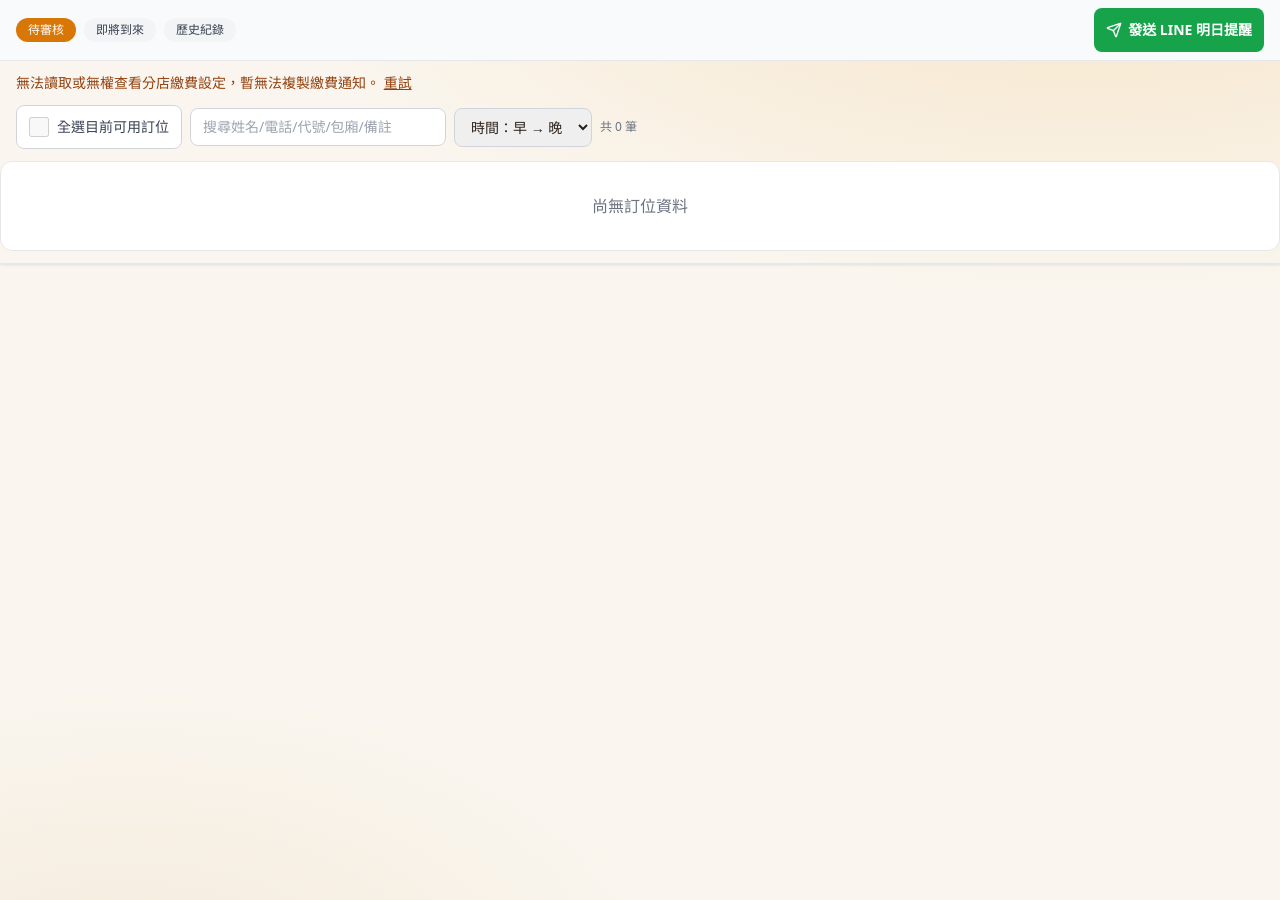
ReservationList history restore (一鍵還原) › filters to bookings auto-cancelled for an unpaid deposit
The width and height of the screenshot is (1280, 900).
Click the button "歷史紀錄" at coordinates (200, 30), box left=164, top=18, right=236, bottom=42
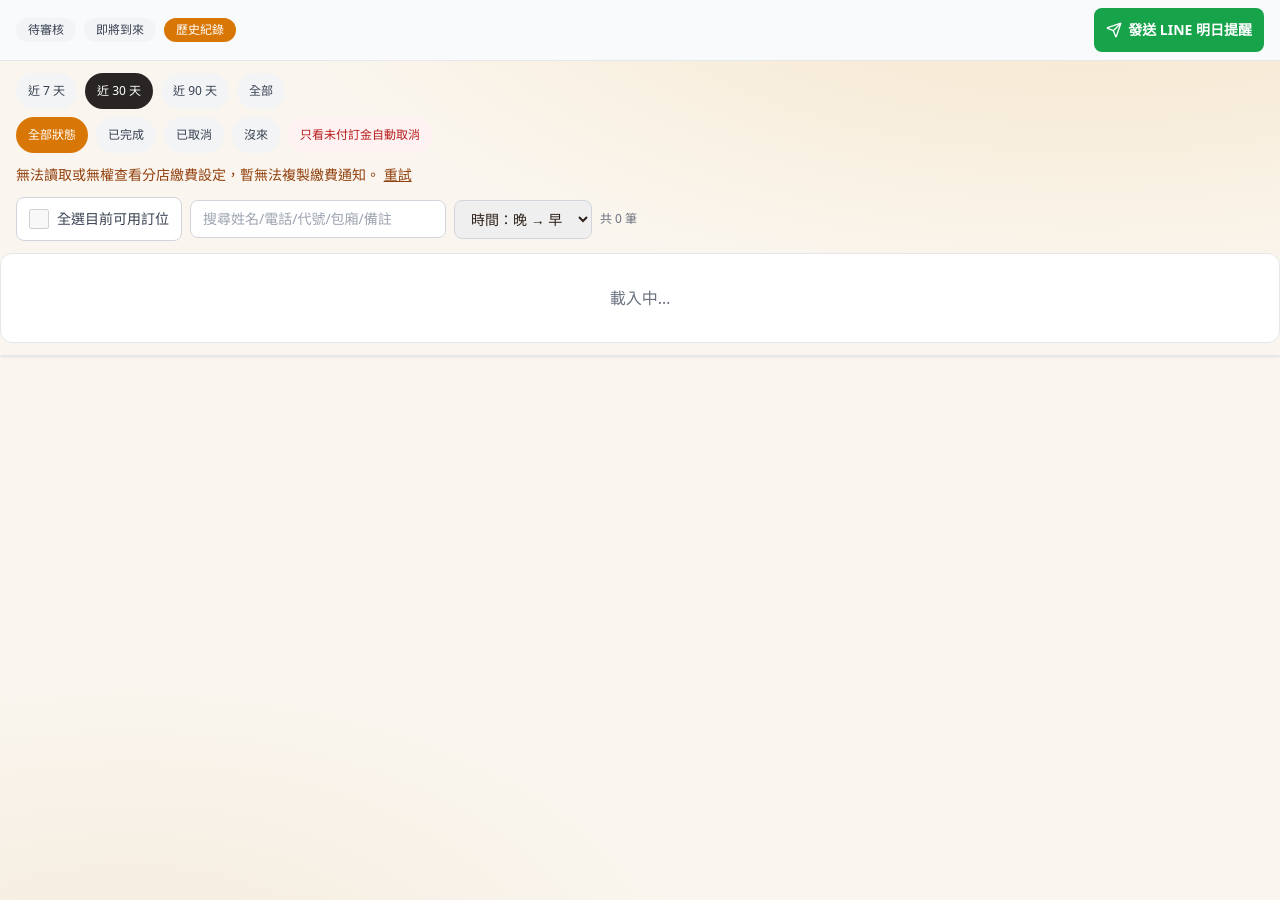
Click the button "只看未付訂金自動取消" at coordinates (360, 135), box left=288, top=117, right=432, bottom=153
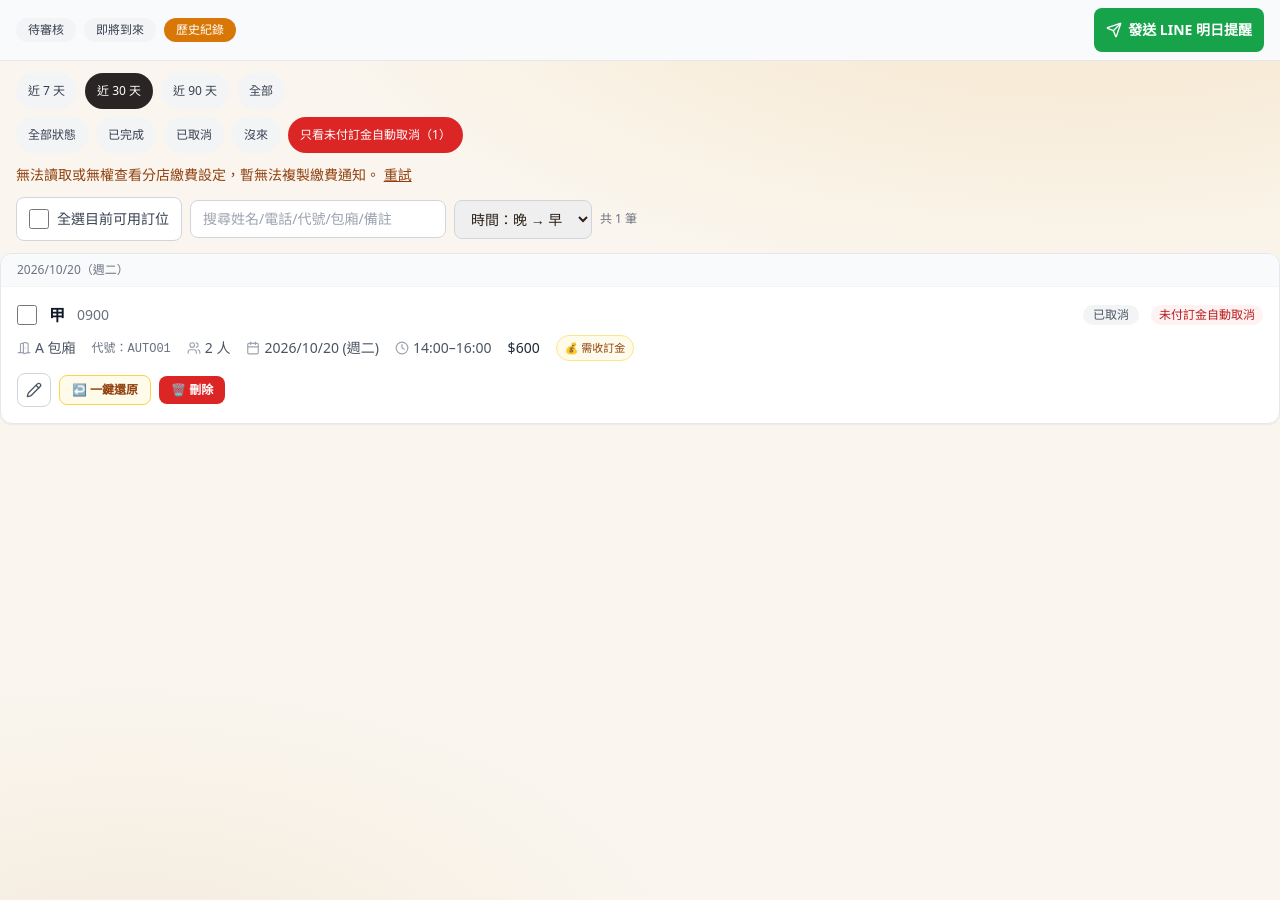
Now the button "只看未付訂金自動取消（1）" is shown, box left=288, top=117, right=463, bottom=153
Now the number of buttons "↩️ 一鍵還原" is 1, box left=59, top=375, right=151, bottom=405
Now the text "AUTO01" is shown, box left=128, top=342, right=171, bottom=356
